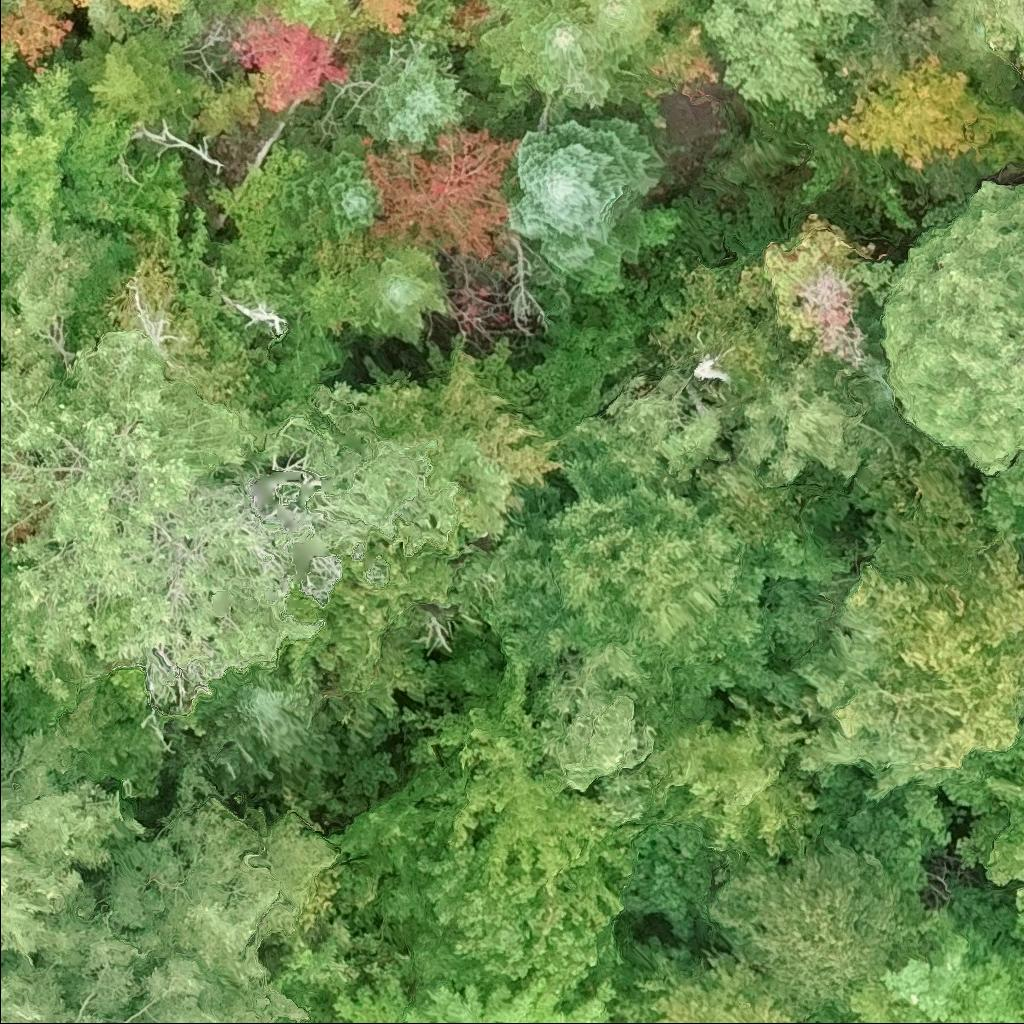crown: (0, 329, 515, 707), (321, 646, 649, 1003), (62, 759, 336, 1023), (851, 179, 1023, 474), (702, 833, 931, 1023), (0, 729, 156, 976), (636, 693, 820, 865), (502, 101, 670, 283), (817, 51, 1023, 178), (842, 887, 1023, 1023), (726, 341, 893, 483), (459, 0, 654, 119), (698, 0, 886, 120), (360, 121, 515, 266), (559, 372, 737, 487), (196, 666, 344, 795), (321, 39, 495, 146), (0, 207, 117, 362), (331, 966, 621, 1023), (761, 212, 879, 348), (634, 949, 833, 1023), (70, 25, 201, 136), (0, 62, 81, 229), (944, 719, 1023, 882), (270, 127, 380, 233), (235, 11, 351, 111), (348, 244, 452, 344), (585, 0, 702, 57), (945, 0, 1023, 78), (0, 945, 70, 1023), (0, 0, 74, 67), (254, 0, 353, 35), (0, 56, 16, 132), (1009, 887, 1023, 942), (0, 274, 4, 298)
